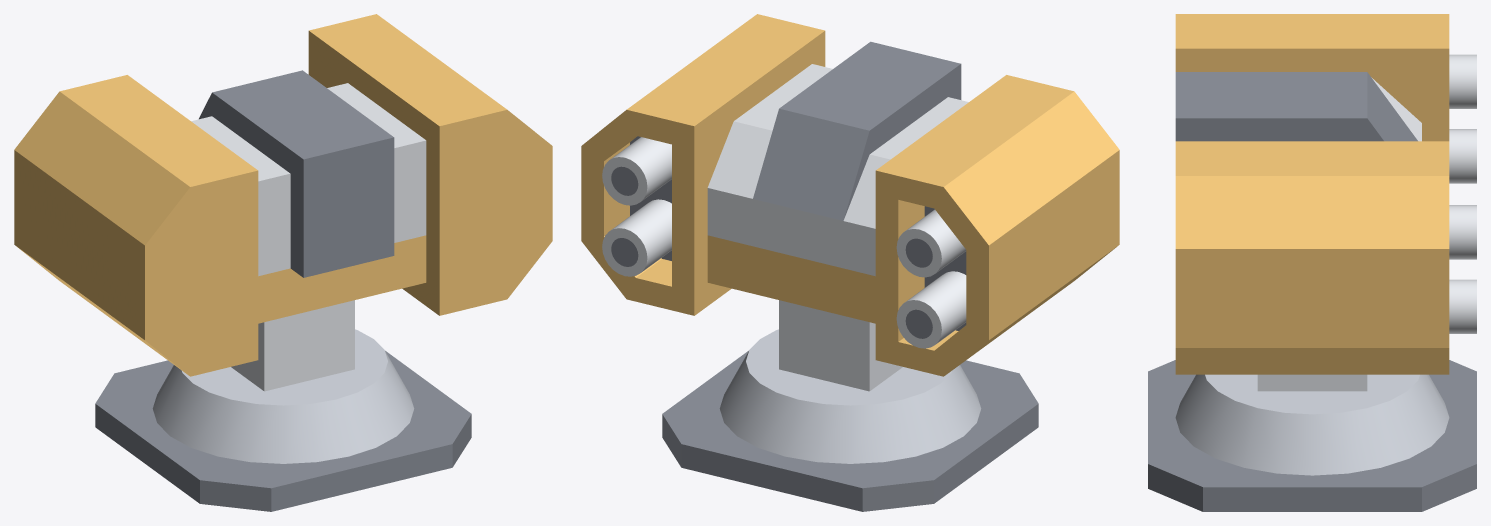
Rendered from turret_double.glb.
3 renders of one model, left to right at view 1: azimuth 30°, elevation 25°; view 2: azimuth 150°, elevation 25°; view 3: azimuth 270°, elevation 25°, orthographic. The views are drawn at different scales.
Parts seen in each view (by area): view 1: turret, turret_double; view 2: turret, turret_double; view 3: turret, turret_double.
Part boxes in pixels (left/top/right/bottom): turret: left=14, top=14, right=552, bottom=376; turret_double: left=95, top=300, right=471, bottom=511; turret: left=581, top=14, right=1119, bottom=376; turret_double: left=662, top=300, right=1038, bottom=511; turret: left=1175, top=14, right=1476, bottom=374; turret_double: left=1148, top=360, right=1476, bottom=511.
Size of the model in its own units: 0.9 by 0.7 by 0.6.
1 material, 1 textured.
